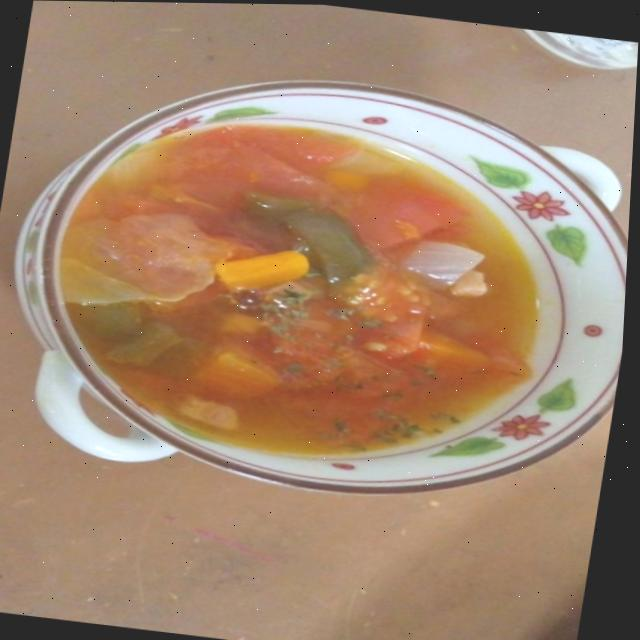汤锅炖物: (19, 75, 574, 504)
